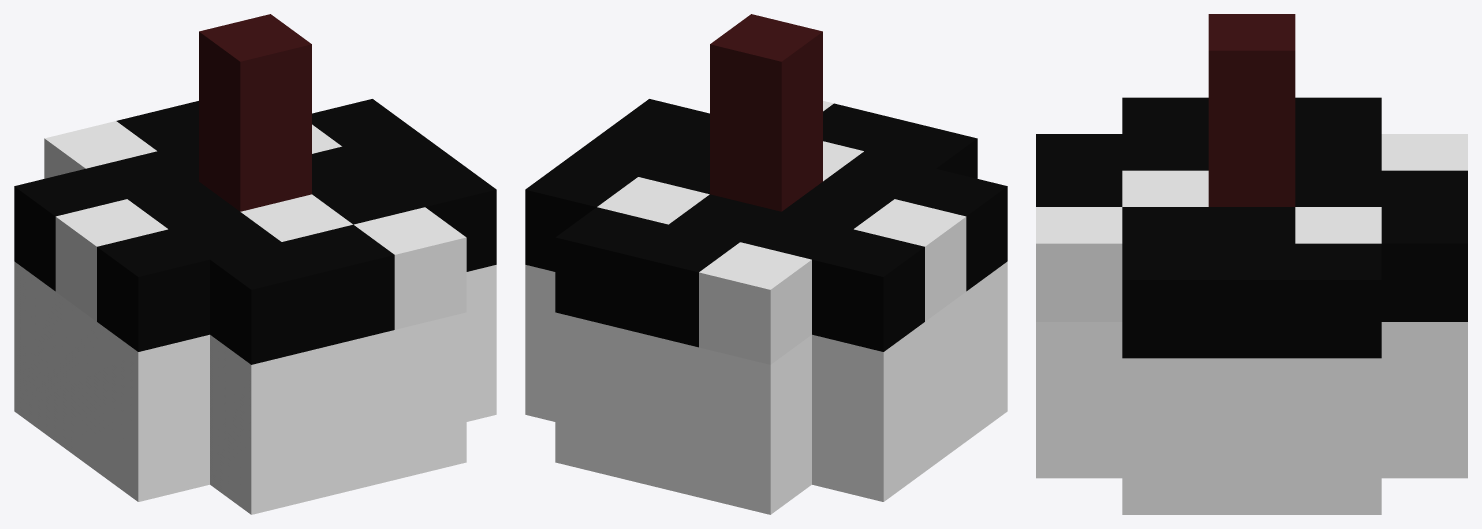
File: tavern-56-cake.glb
3 views of the same model, side by side, from view 1: azimuth 30°, elevation 25°; view 2: azimuth 150°, elevation 25°; view 3: azimuth 270°, elevation 25° (orthographic). The views are drawn at different scales.
Parts seen in each view (by area): view 1: cake; view 2: cake; view 3: cake.
Part boxes in pixels (x1,y1,x2,y2): cake: [14, 14, 496, 514]; cake: [525, 14, 1007, 514]; cake: [1036, 14, 1467, 514].
Bounding box in the file's own units: 0.5 × 0.5 × 0.5.
Materials: 1 (1 with a texture image).
